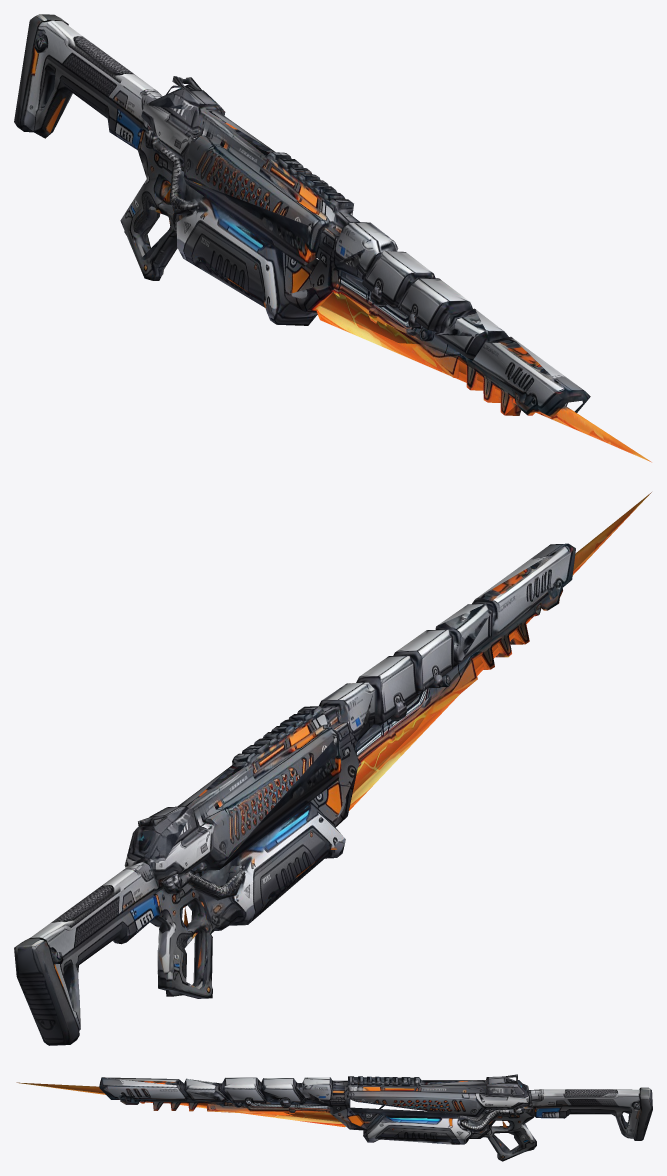
3 renders of one model, top to bottom at view 1: azimuth 30°, elevation 25°; view 2: azimuth 150°, elevation 25°; view 3: azimuth 270°, elevation 25°, orthographic. The views are drawn at different scales.
Visible parts, largest first — view 1: gun; view 2: gun; view 3: gun.
Part boxes in pixels (<box>): gun: <box>14,14,651,462</box>; gun: <box>14,492,651,1045</box>; gun: <box>16,1074,652,1161</box>.
Size of the model in its own units: 0.4308 by 1.08 by 6.63.
Materials: 2 (2 with a texture image).
